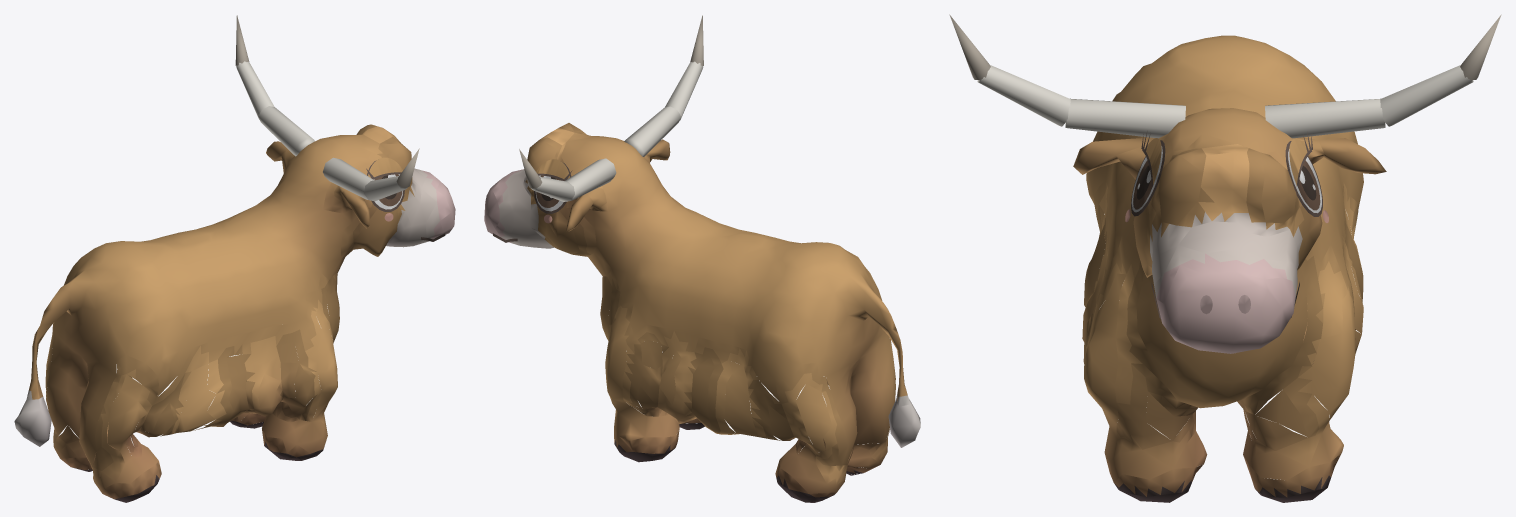
The model's file is highland_cow.glb.
3 views of the same model, side by side, from view 1: azimuth 30°, elevation 25°; view 2: azimuth 150°, elevation 25°; view 3: azimuth 270°, elevation 25° (orthographic). The views are drawn at different scales.
Visible parts, largest first — view 1: highland_cow; view 2: highland_cow; view 3: highland_cow.
Part boxes in pixels (left/top/right/bottom): highland_cow: left=14, top=15, right=455, bottom=502; highland_cow: left=484, top=15, right=920, bottom=502; highland_cow: left=949, top=14, right=1501, bottom=502.
Bounding box in the file's own units: 1 × 0.7805 × 0.7406.
